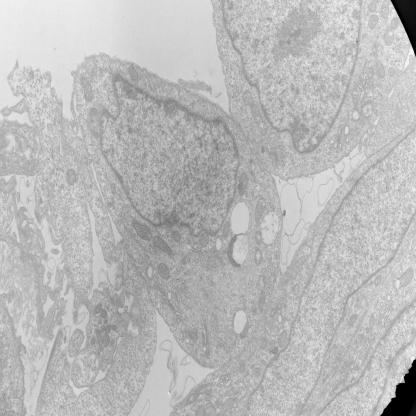mitochondria: (242, 90, 269, 137), (153, 236, 175, 261), (80, 77, 94, 104), (350, 88, 360, 123), (135, 222, 152, 242), (254, 196, 266, 224), (398, 268, 414, 287), (64, 167, 78, 188), (238, 172, 250, 196), (127, 63, 139, 85), (158, 262, 171, 280), (93, 327, 103, 348), (221, 396, 236, 410), (367, 14, 379, 31), (380, 0, 390, 20), (258, 290, 266, 313), (200, 232, 210, 250), (278, 330, 288, 348), (383, 30, 394, 46), (171, 230, 182, 244), (376, 62, 386, 77), (254, 248, 263, 264), (390, 16, 400, 30), (292, 282, 300, 298), (254, 230, 262, 245), (223, 221, 230, 238), (348, 313, 357, 325), (369, 312, 375, 330), (368, 0, 377, 12), (387, 66, 396, 78), (93, 303, 103, 313), (100, 308, 110, 318), (103, 334, 110, 348), (375, 275, 382, 287), (104, 324, 112, 334), (110, 181, 116, 194), (111, 324, 117, 332), (96, 318, 102, 325), (100, 326, 106, 332), (102, 318, 107, 324)
